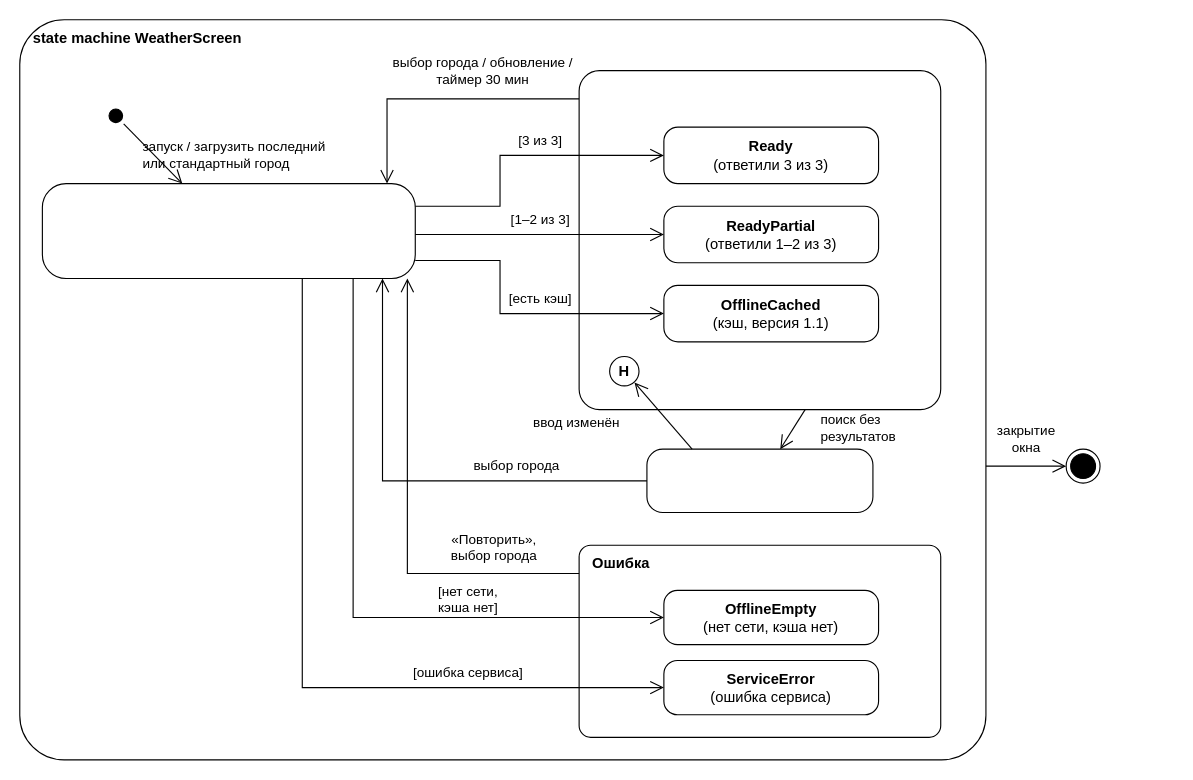
Some shapes in this 1193 by 780 pixel diagram are drawn without their labels. The shapes that lost their labels are listed below. From the top down, each one's box as (x1, y1, x2, y2) in pixels, then its label:
(41, 182, 415, 279): Loading entry / отменить прежний запрос, показать индикатор загрузки
(578, 69, 941, 410): Показ данных
(646, 448, 873, 512): CityNotFound (город не найден)
